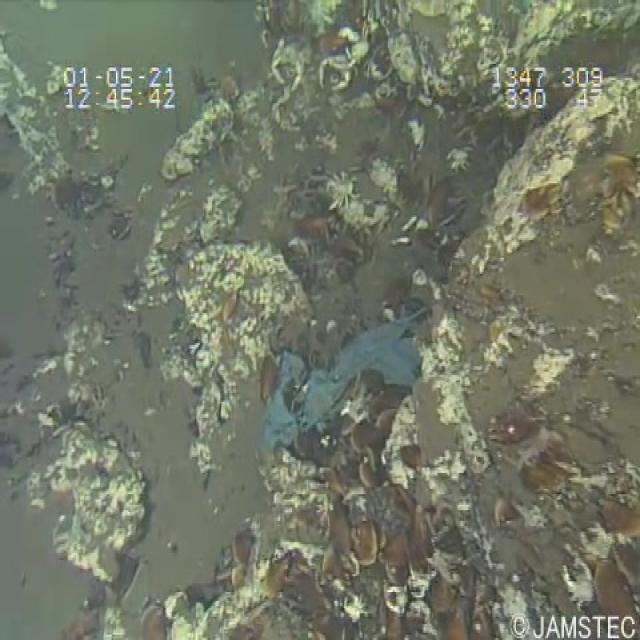plastic: (254, 302, 434, 459)
